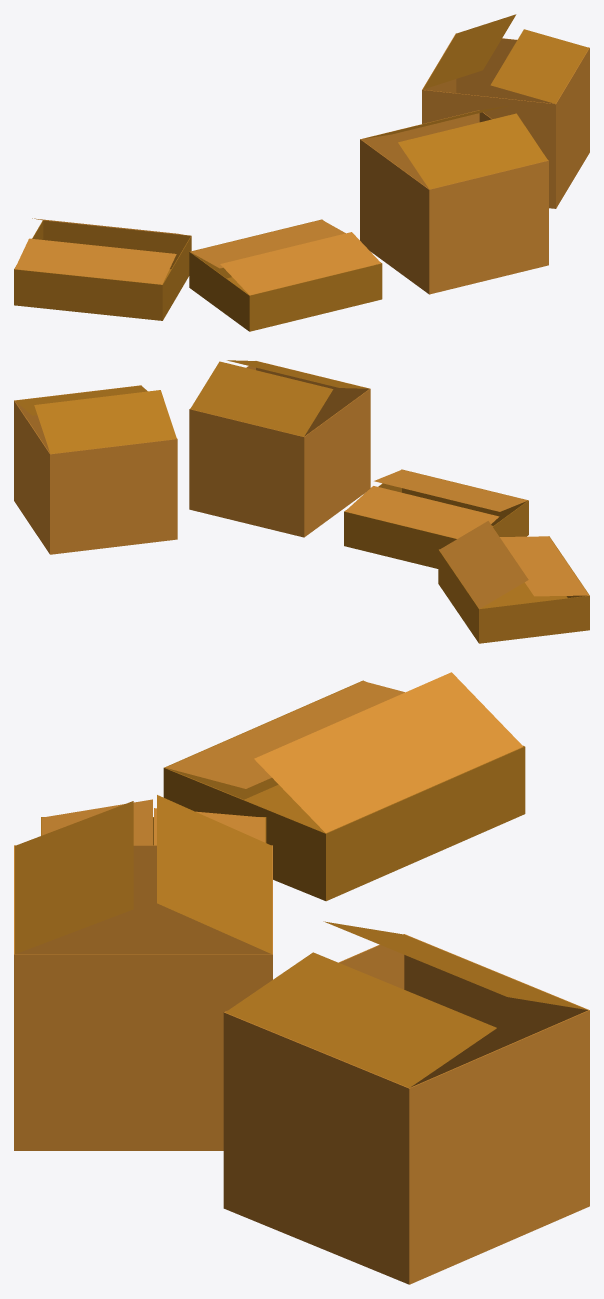
File: paracel box.fbx
The picture shows the model from 3 angles, top to bottom: view 1: azimuth 30°, elevation 25°; view 2: azimuth 150°, elevation 25°; view 3: azimuth 270°, elevation 25°; orthographic projection. The views are drawn at different scales.
Parts seen in each view (by area): view 1: Cube, Cube.003, Cube.009, Cube.006, Cube.001, Cube.007, Cube.010, Cube.004, Cube.005, Cube.008, Cube.002; view 2: Cube, Cube.003, Cube.005, Cube.002, Cube.009, Cube.006, Cube.011, Cube.008, Cube.010, Cube.007, Cube.004, Cube.001; view 3: Cube.003, Cube, Cube.009, Cube.011, Cube.004, Cube.001, Cube.002, Cube.010, Cube.005, Cube.007, Cube.008.
Part boxes in pixels (x1,y1,x2,y2): Cube: (360, 110, 548, 294); Cube.003: (422, 33, 589, 208); Cube.009: (14, 220, 191, 320); Cube.006: (189, 219, 382, 331); Cube.001: (398, 113, 547, 189); Cube.007: (220, 232, 380, 295); Cube.010: (15, 238, 176, 284); Cube.004: (490, 29, 588, 103); Cube.005: (423, 14, 516, 89); Cube.008: (190, 220, 345, 268); Cube.002: (363, 106, 507, 138); Cube: (189, 361, 370, 537); Cube.003: (14, 385, 177, 554); Cube.005: (34, 390, 176, 453); Cube.002: (190, 361, 333, 436); Cube.009: (438, 536, 589, 643); Cube.006: (344, 469, 528, 568); Cube.011: (439, 521, 528, 608); Cube.008: (345, 486, 499, 538); Cube.010: (500, 536, 588, 596); Cube.007: (374, 469, 527, 511); Cube.004: (15, 385, 147, 415); Cube.001: (227, 360, 367, 388); Cube.003: (223, 934, 589, 1284); Cube: (14, 845, 272, 1150); Cube.009: (163, 680, 525, 901); Cube.011: (254, 672, 523, 832); Cube.004: (225, 952, 496, 1087); Cube.001: (15, 801, 133, 954); Cube.002: (157, 795, 271, 953); Cube.010: (166, 681, 404, 788); Cube.005: (323, 921, 587, 1009); Cube.007: (42, 799, 152, 845); Cube.008: (154, 808, 265, 845).
Bounding box in the file's own units: 121 × 26.02 × 54.74.
